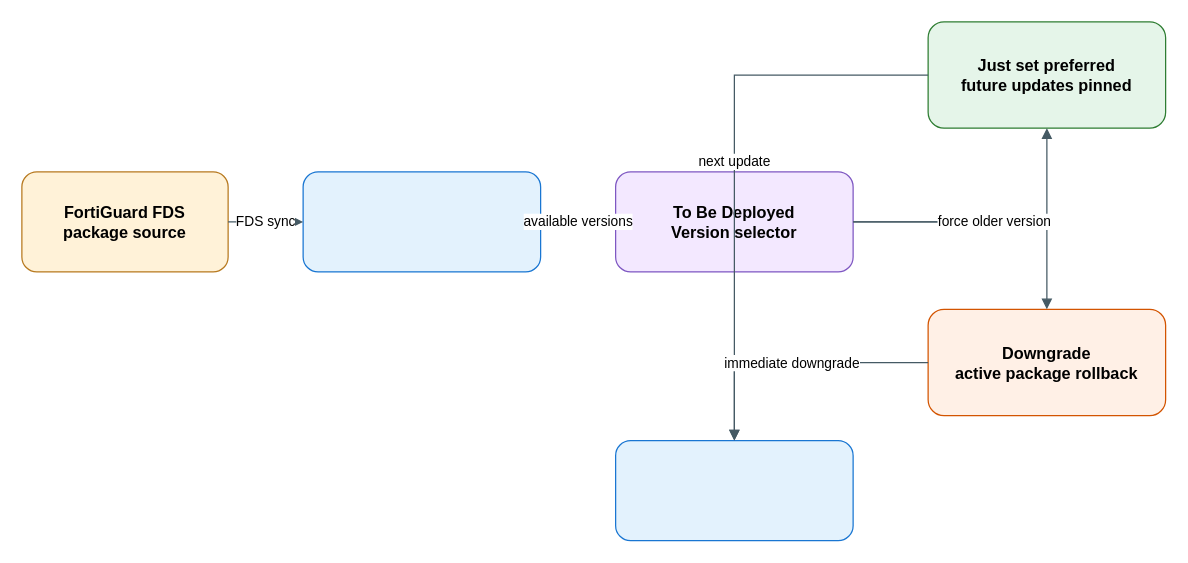
Some shapes in this 1188 by 563 pixel diagram are drawn without their labels. Each missing label, with the box of its shape:
FortiManager package repository: (302, 171, 541, 272)
Managed FortiGate package installs: (614, 439, 853, 541)
